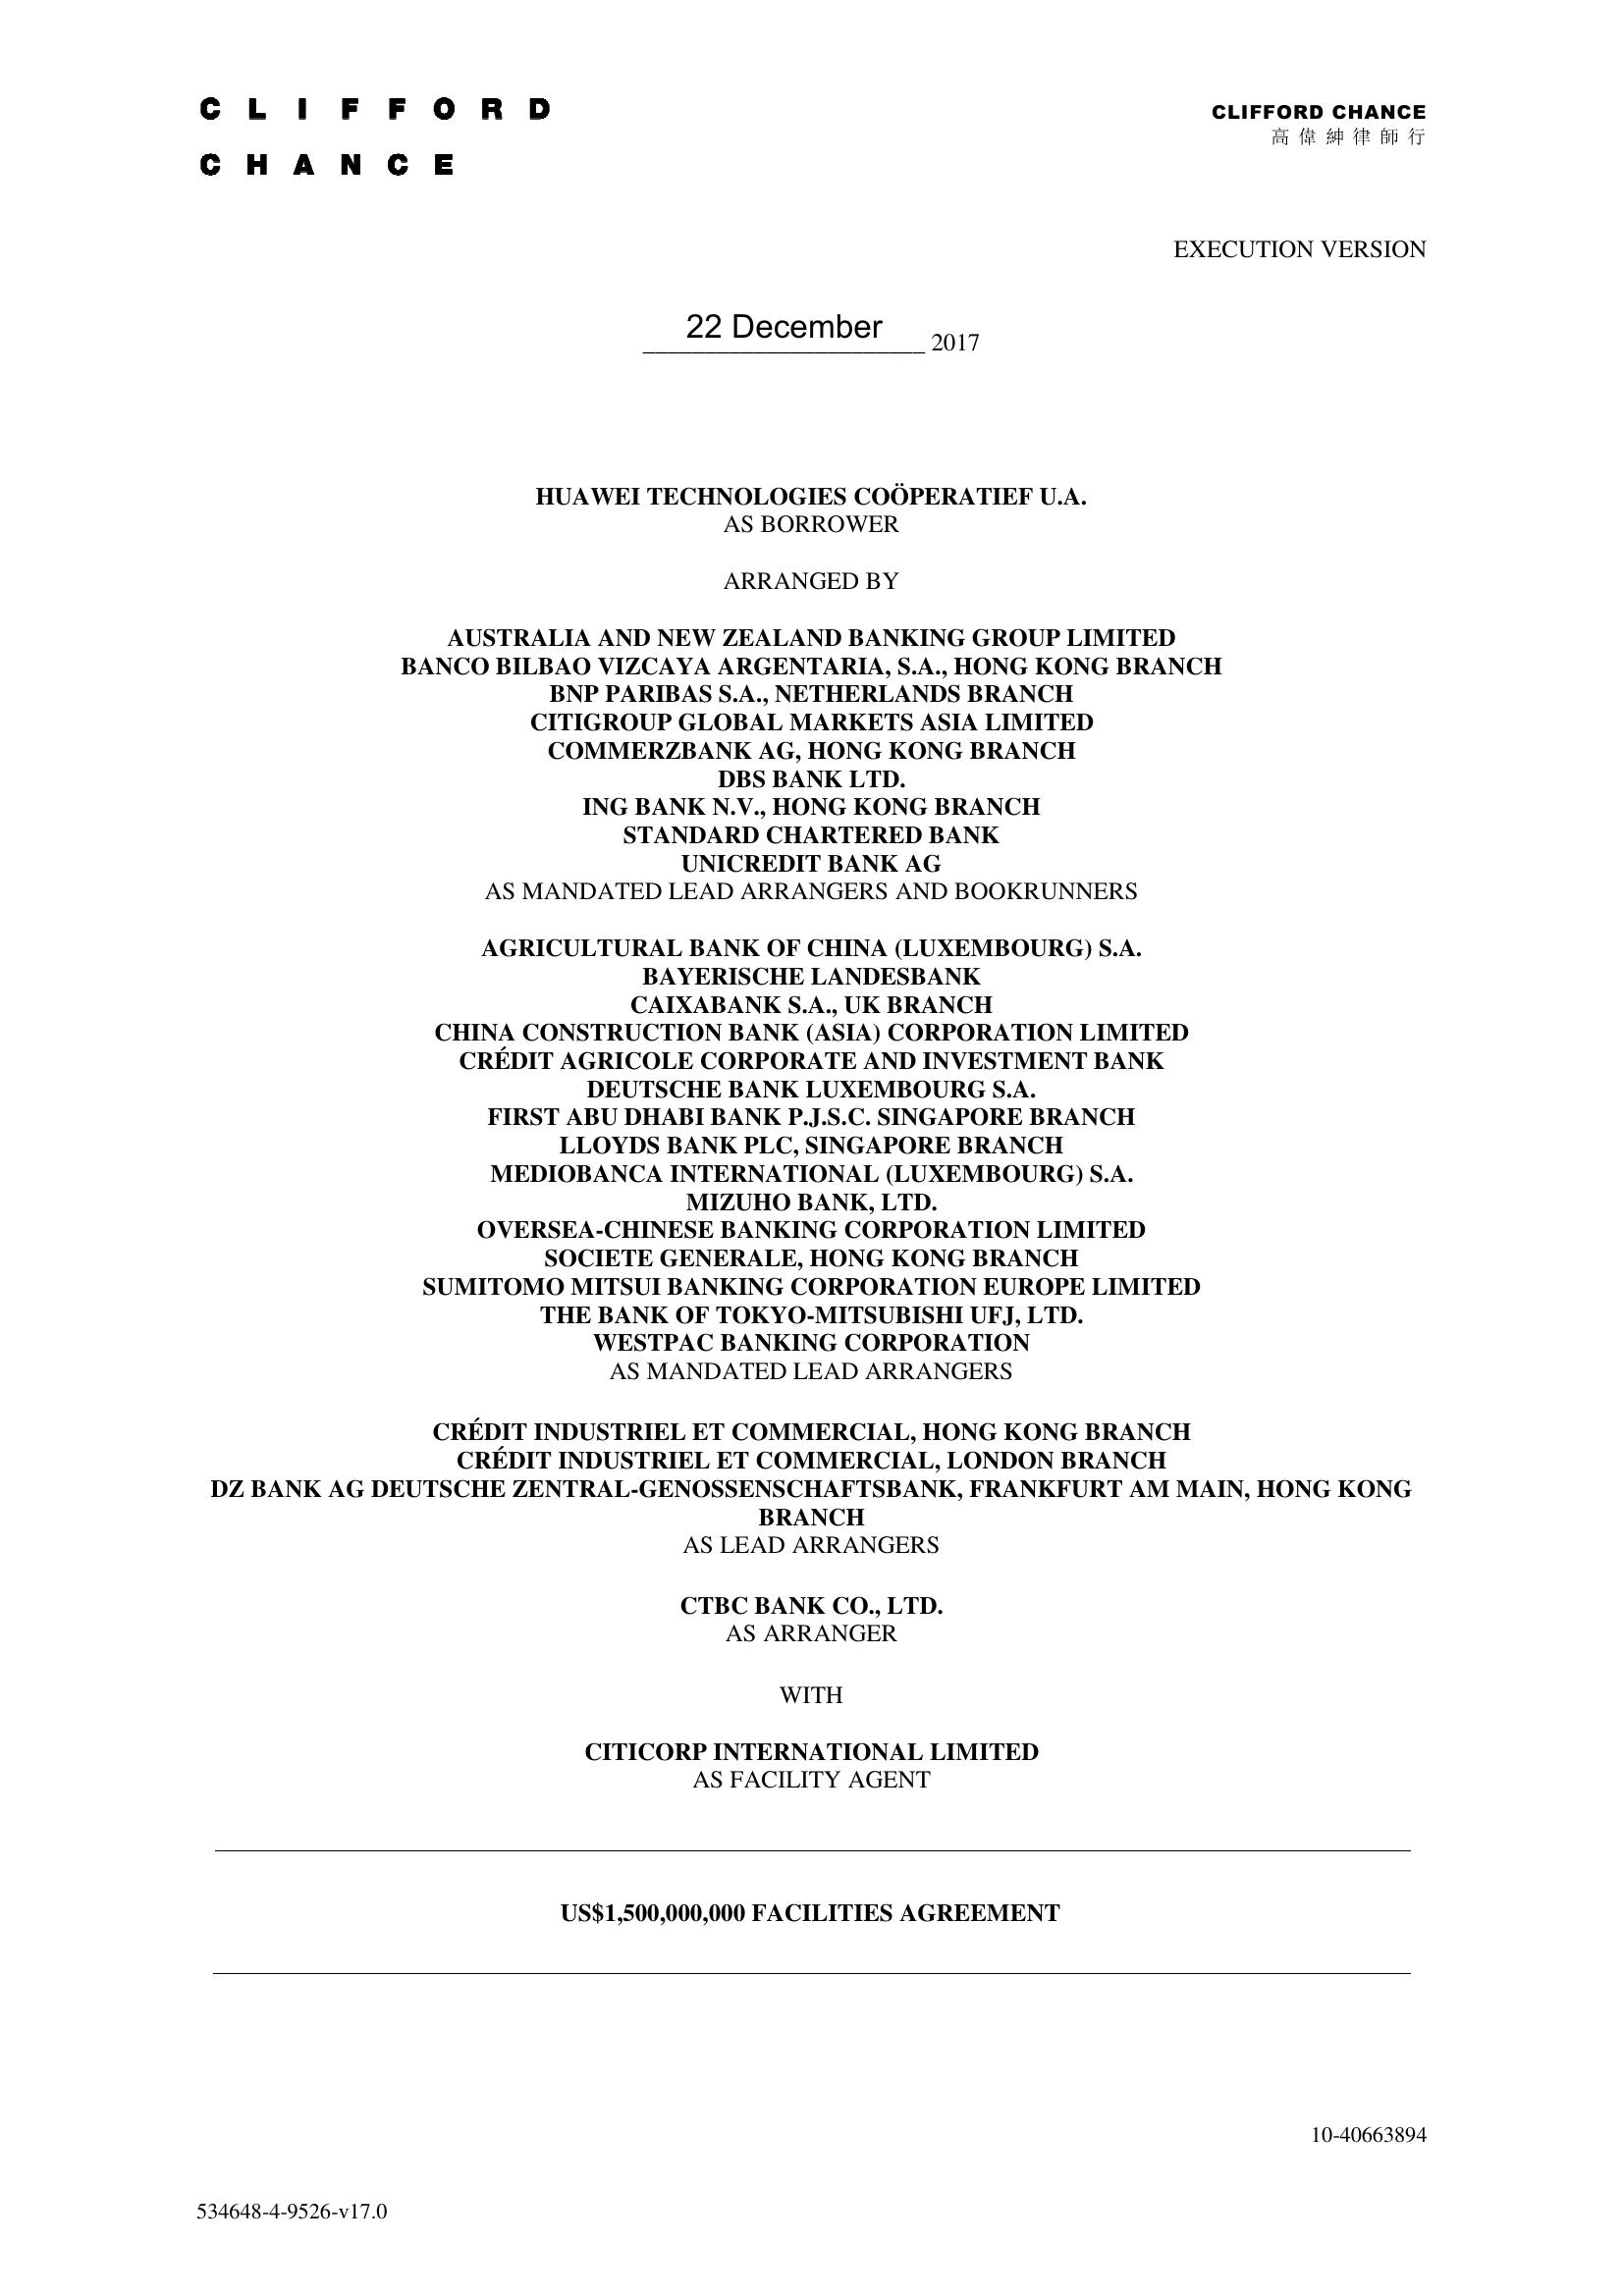tag: (102, 2168, 474, 2266), (1217, 2082, 1537, 2180)
typetag: (126, 56, 601, 218), (1105, 191, 1505, 298), (1156, 79, 1481, 169)
